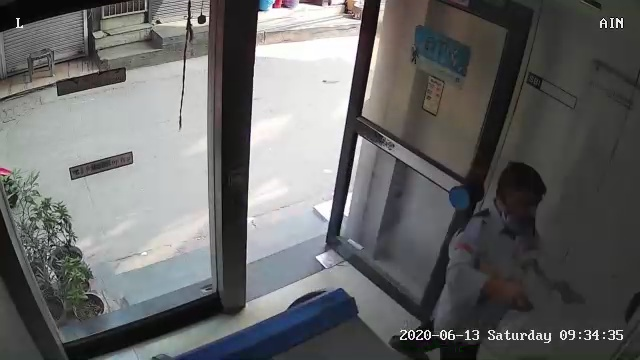open: (192, 7, 539, 352)
